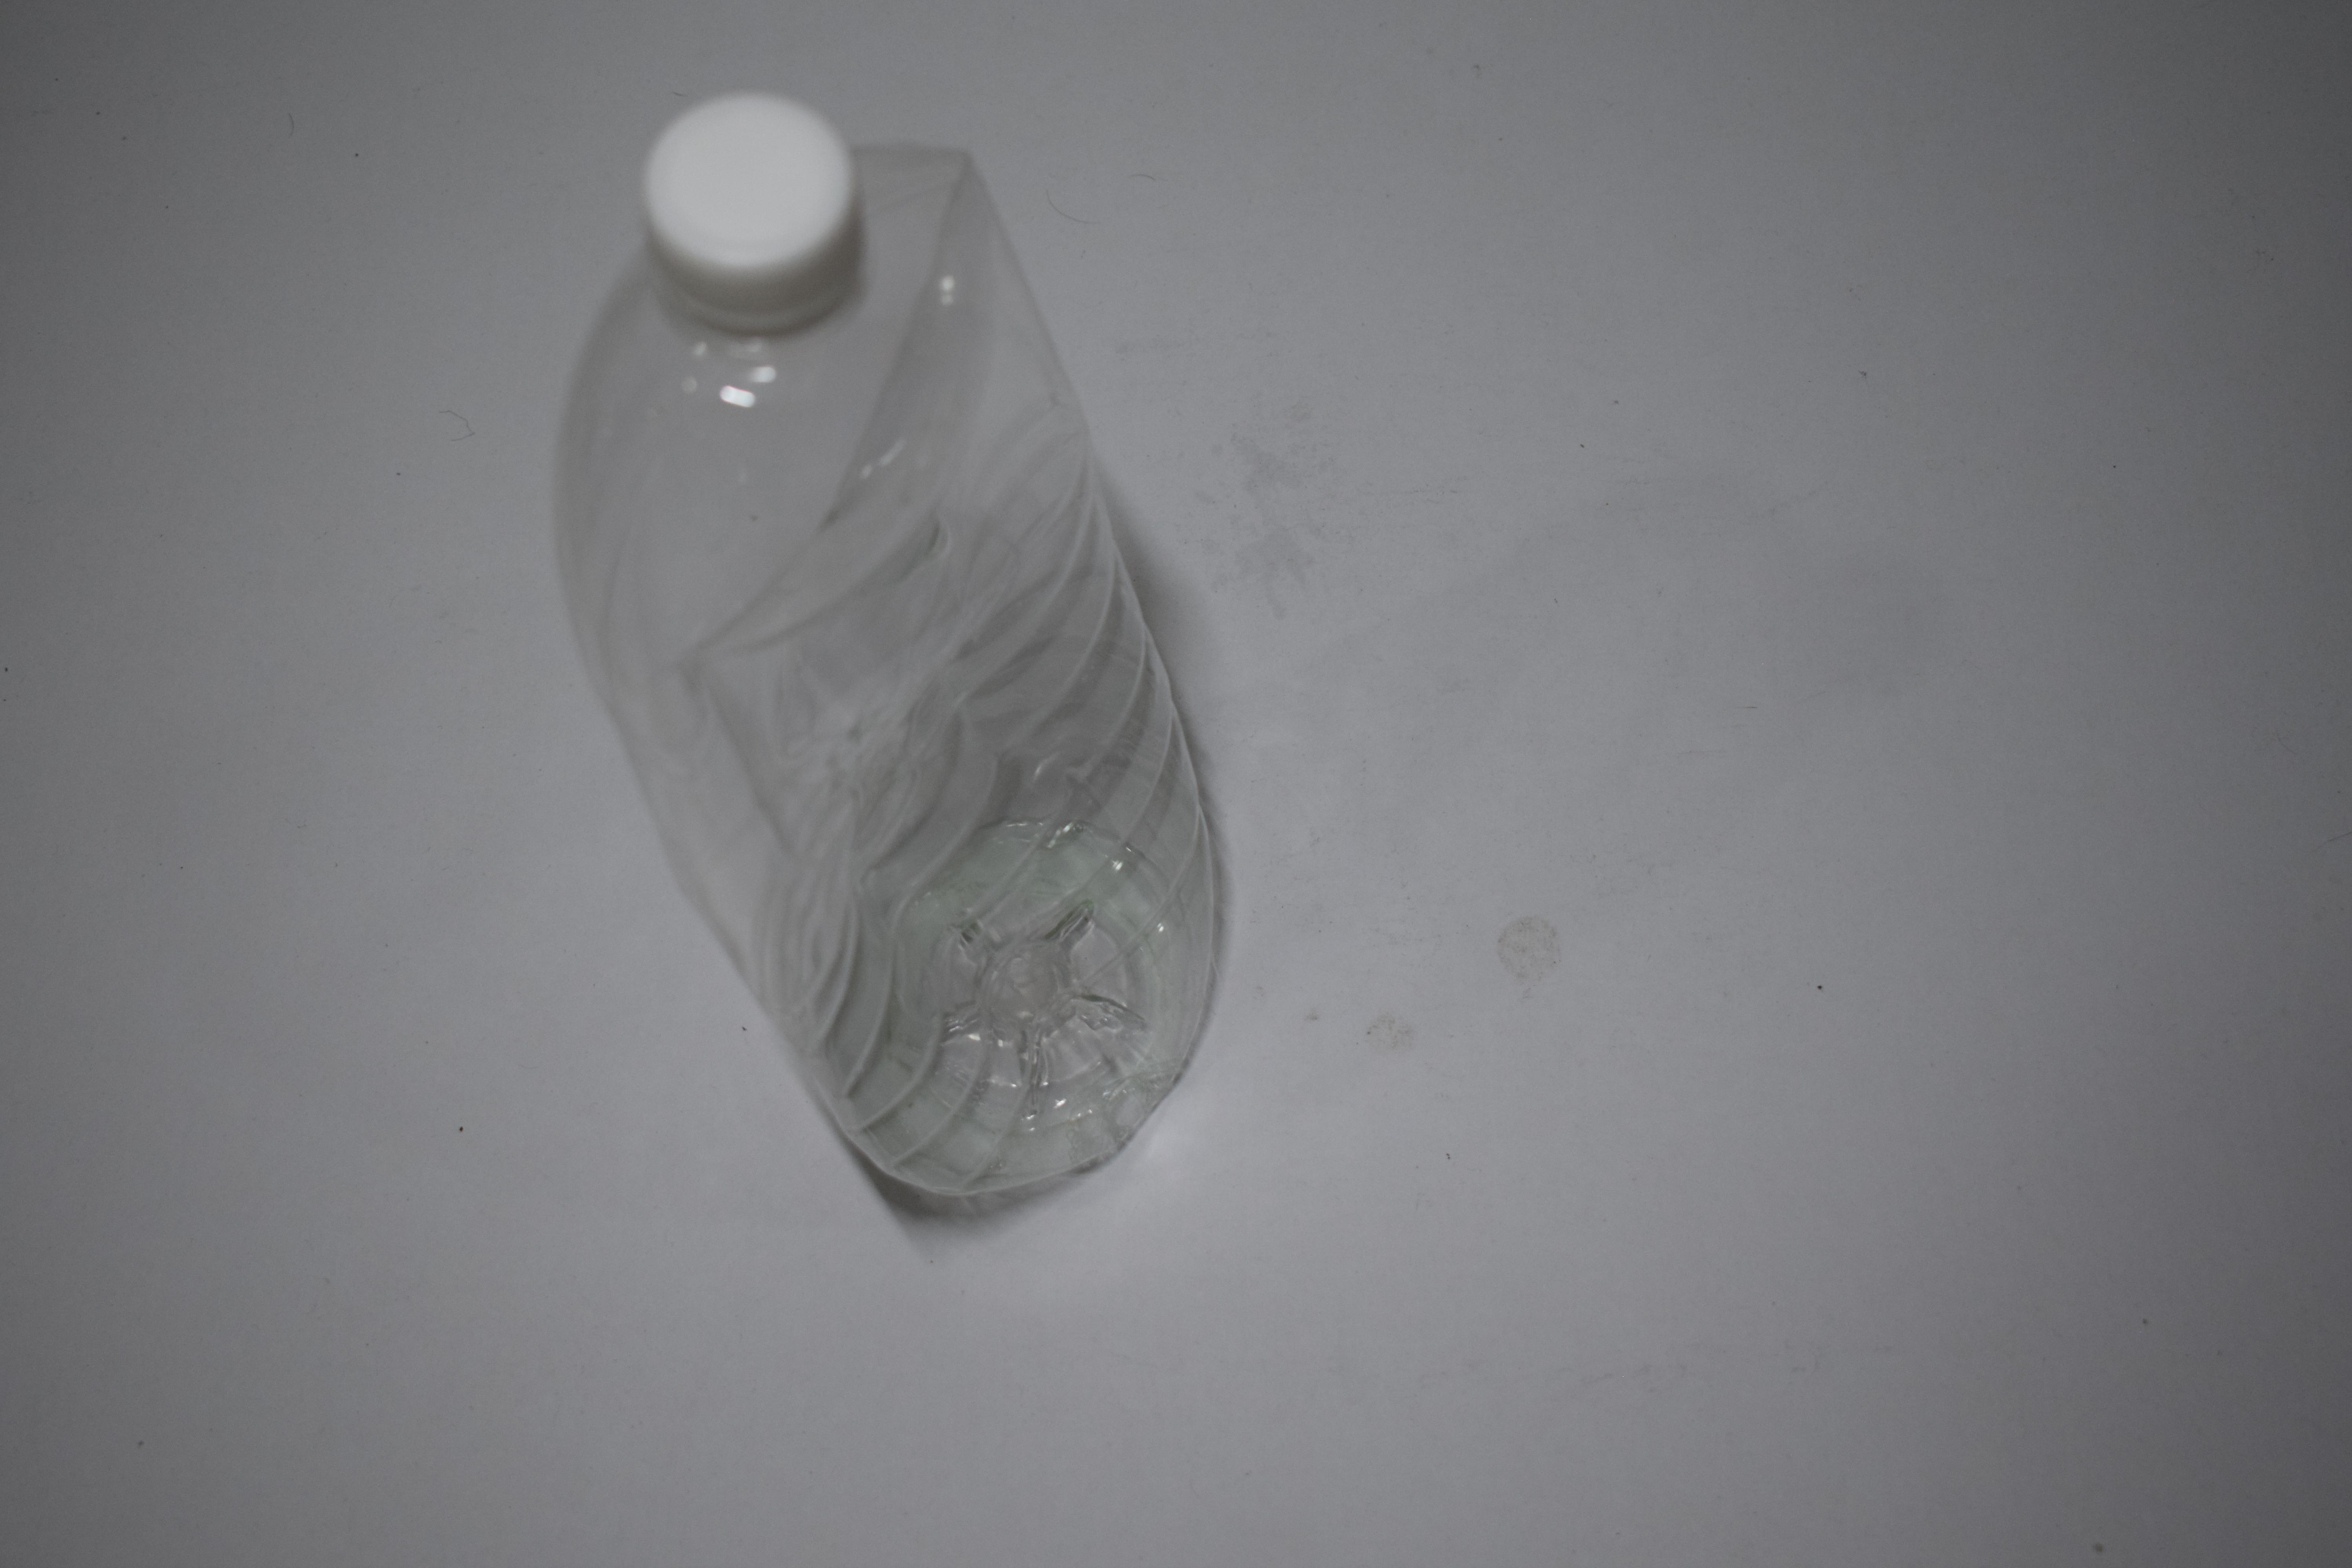bottle: (544, 82, 1230, 1214)
